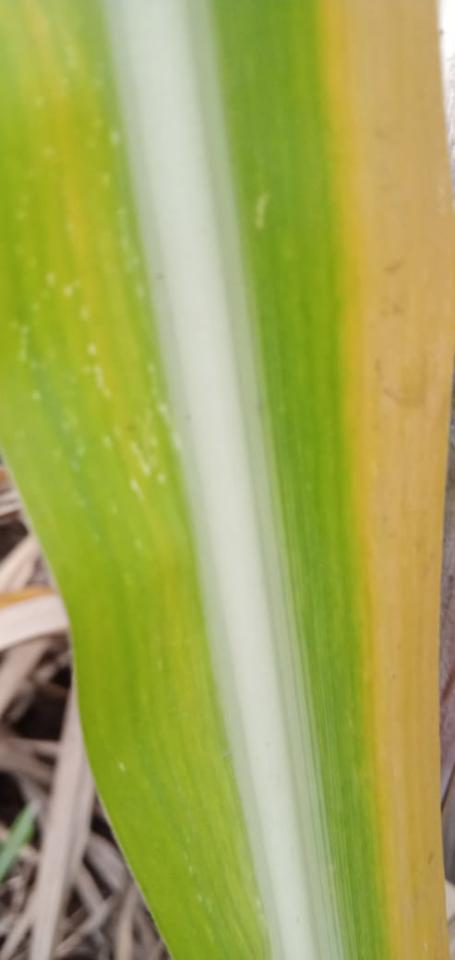Yellow: (320, 0, 454, 959)
